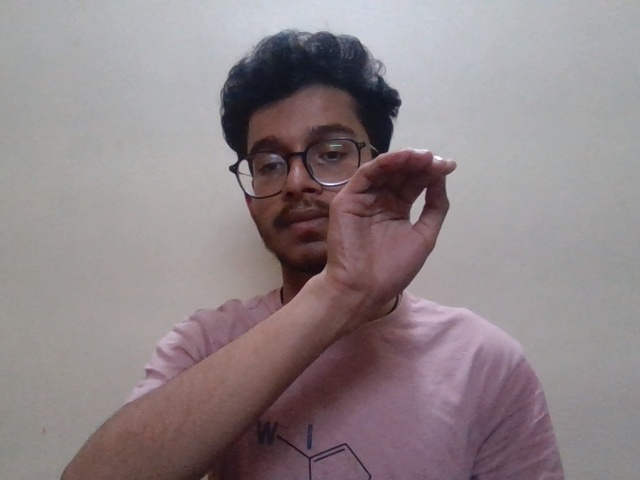sound: (316, 139, 471, 332)
